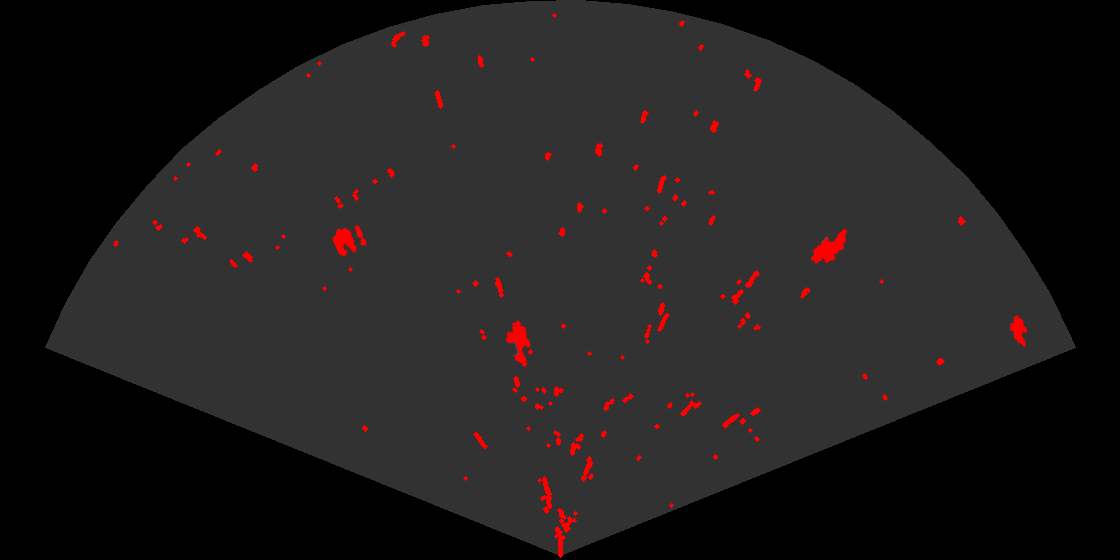AUV: (809, 228, 849, 265), (504, 319, 532, 368), (1008, 313, 1029, 349)
ball: (331, 223, 368, 258)
